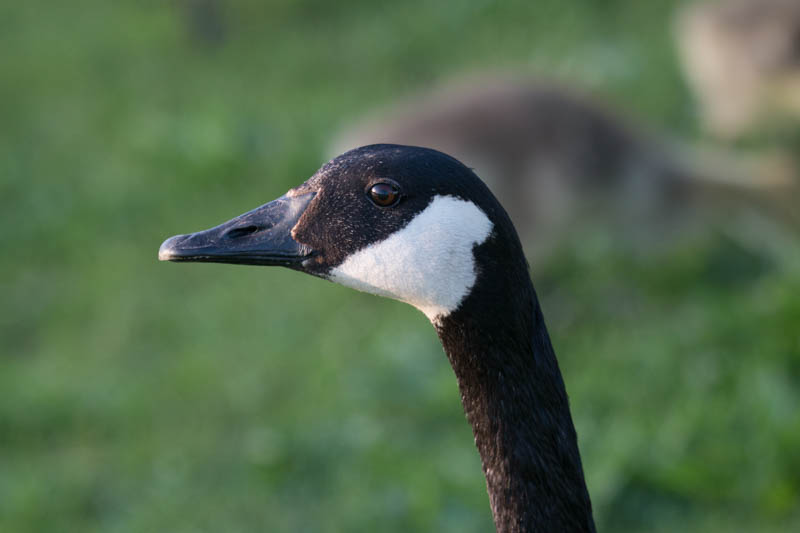goose-head: (155, 143, 527, 333)
